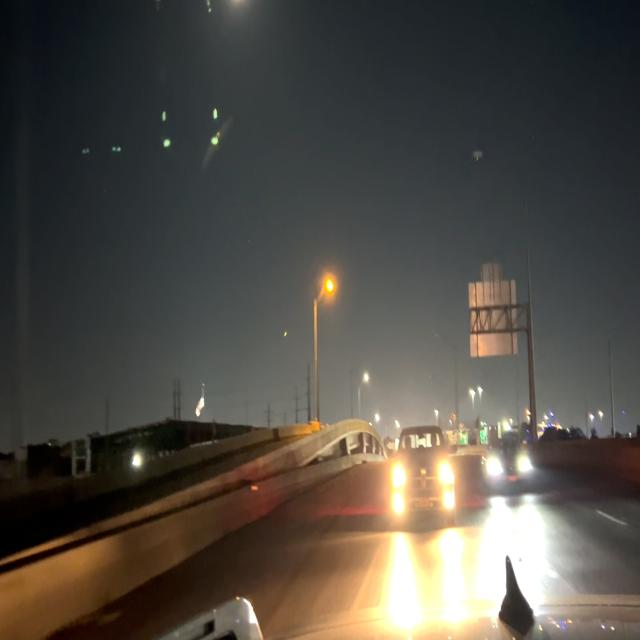back-of-sign: (469, 279, 521, 358), (484, 264, 503, 277)
